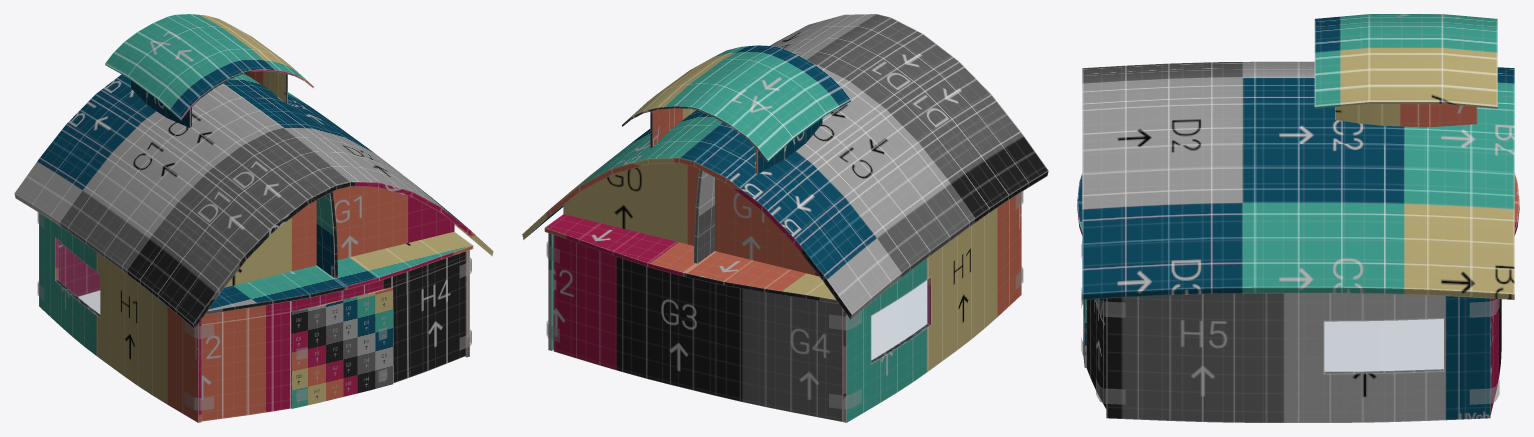
Rendered from Barn.fbx.
3 views of the same model, side by side, from view 1: azimuth 30°, elevation 25°; view 2: azimuth 150°, elevation 25°; view 3: azimuth 270°, elevation 25° (orthographic). The views are drawn at different scales.
Visible parts, largest first — view 1: BarnModel, DoorL, DoorR; view 2: BarnModel; view 3: BarnModel.
Boxes of the visible parts, x1,y1,x2,y2 form: BarnModel: (14, 14, 493, 422); DoorL: (291, 300, 343, 408); DoorR: (343, 287, 393, 396); BarnModel: (522, 14, 1048, 422); BarnModel: (1077, 14, 1519, 422).
Size of the model in its own units: 871 by 720 by 921.
